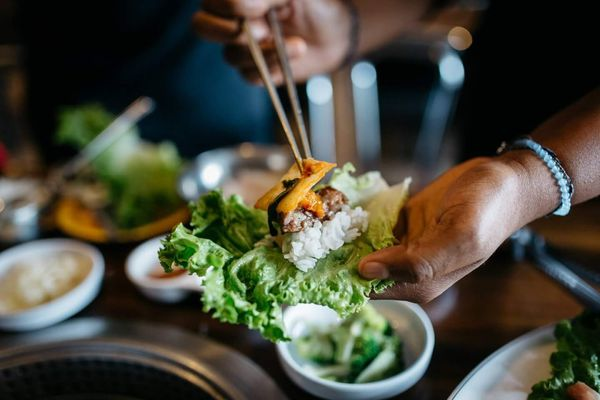curry: (159, 189, 269, 267), (526, 309, 600, 399)
sushi: (273, 299, 436, 396), (448, 309, 600, 399), (0, 236, 105, 332)
